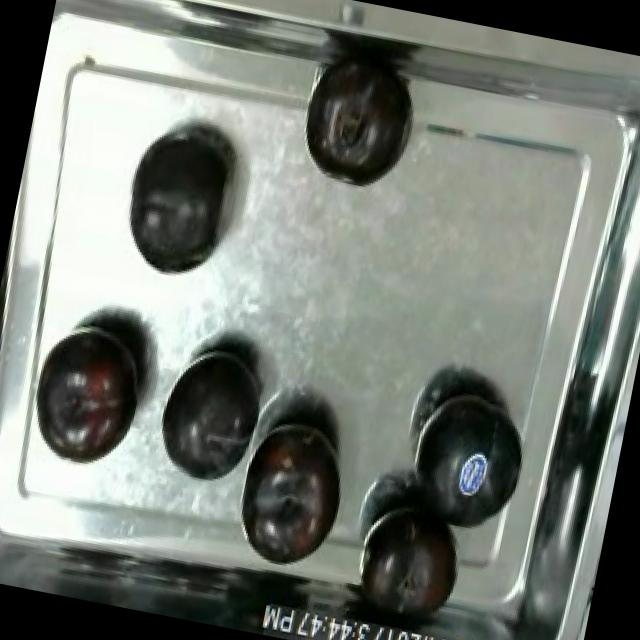Fruit: (394, 373, 544, 554), (142, 327, 284, 502), (227, 402, 366, 580), (22, 306, 162, 481), (110, 116, 248, 290), (342, 486, 479, 639), (293, 56, 420, 196)
